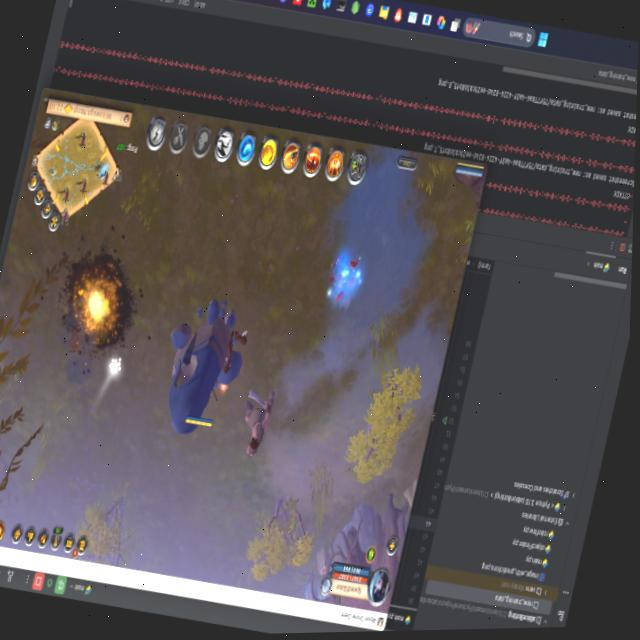ore: (226, 360, 286, 476)
red: (180, 346, 234, 440), (451, 158, 486, 184)
stone: (99, 345, 129, 388)
